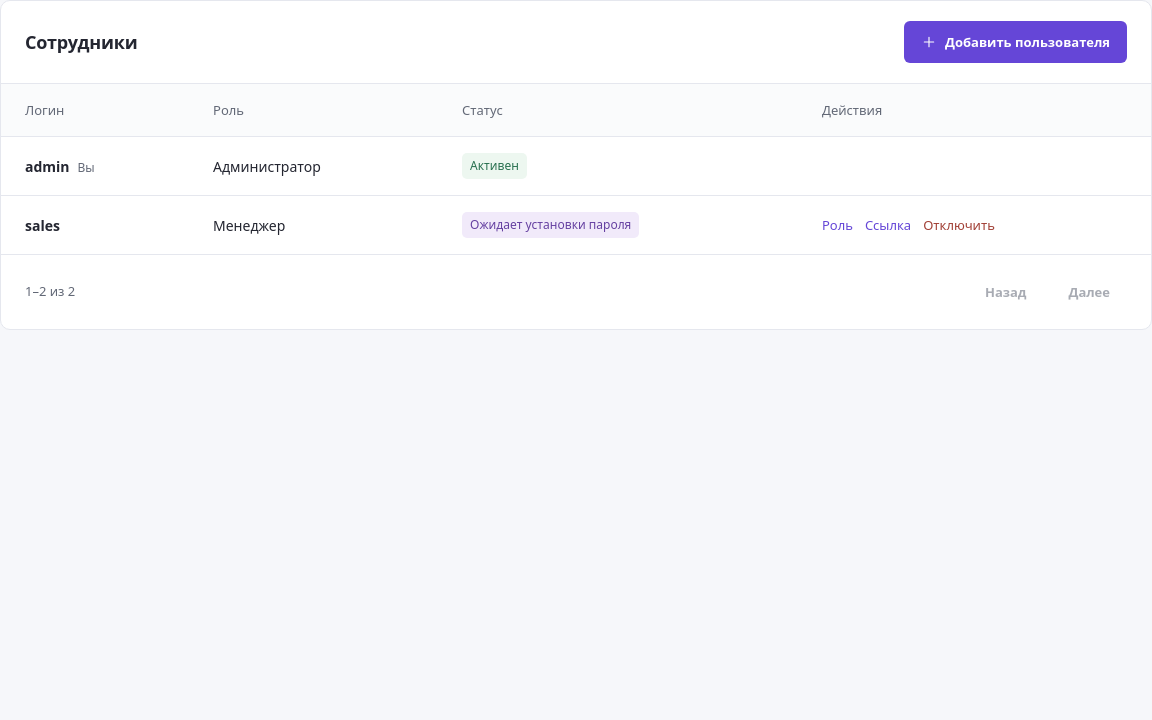
Test: requires confirmation before replacing an invitation
The image size is (1152, 720).
Check: the text "sales" is shown, box x1=25 y1=216 x2=60 y2=234
Click the button with aria-label "Создать ссылку для sales" at [888, 225], box x1=865 y1=213 x2=911 y2=237
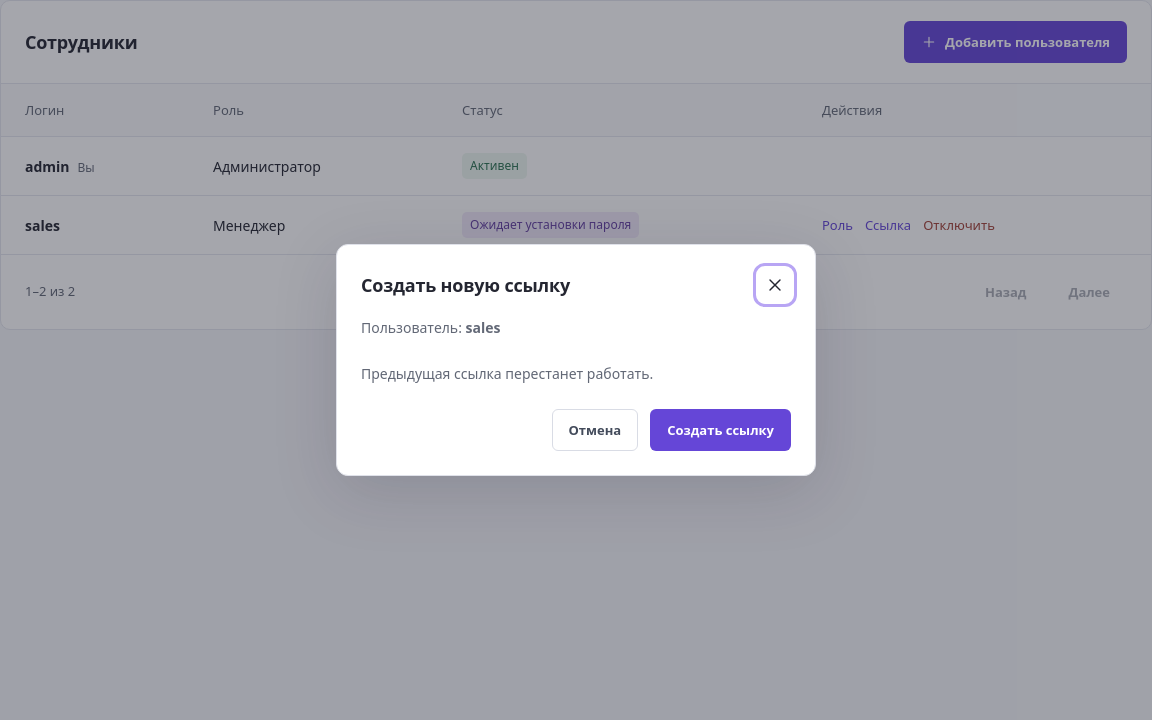
Check: the text "Предыдущая ссылка перестанет работать." is shown, box x1=361 y1=364 x2=653 y2=383
Click the button "Создать ссылку" at [721, 430], box x1=650 y1=409 x2=791 y2=451
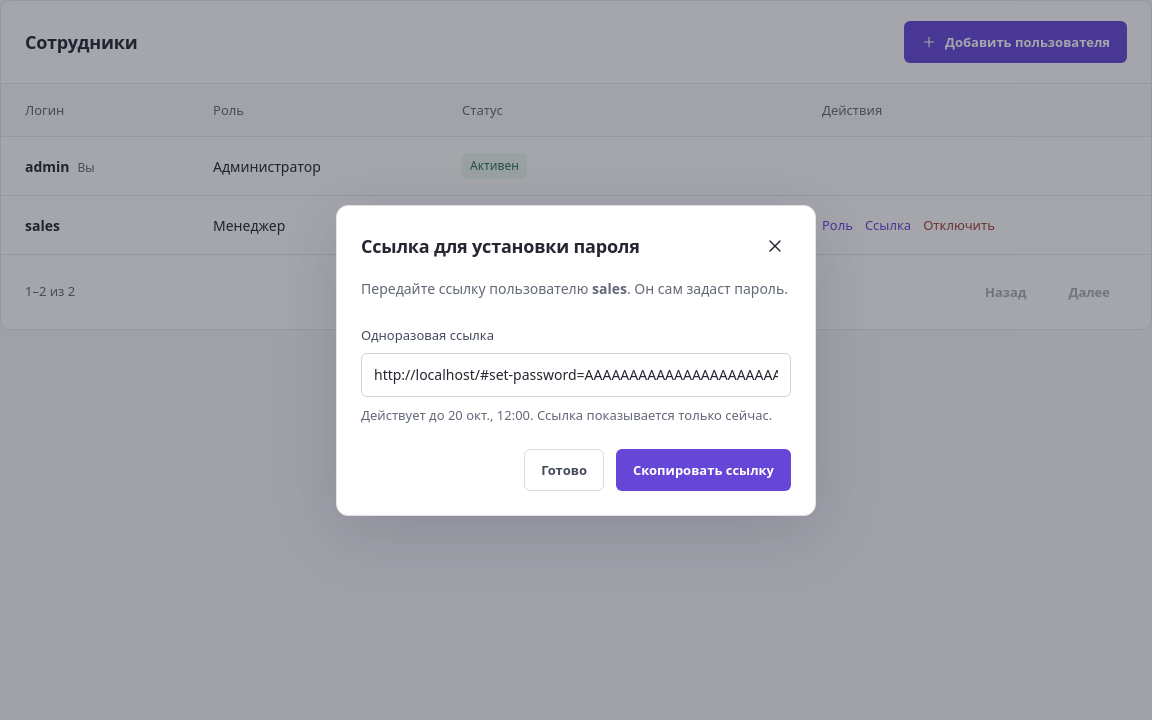
Check: the field labelled "Одноразовая ссылка" is shown, box x1=361 y1=352 x2=791 y2=396
